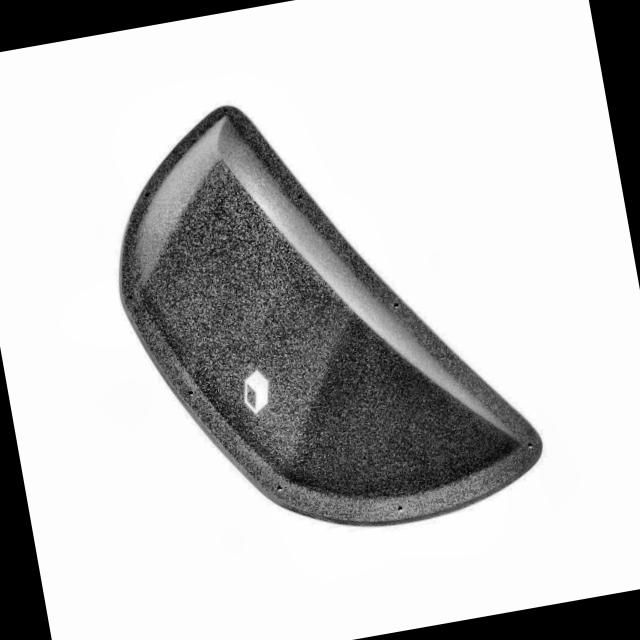Hold: (88, 54, 560, 572)
